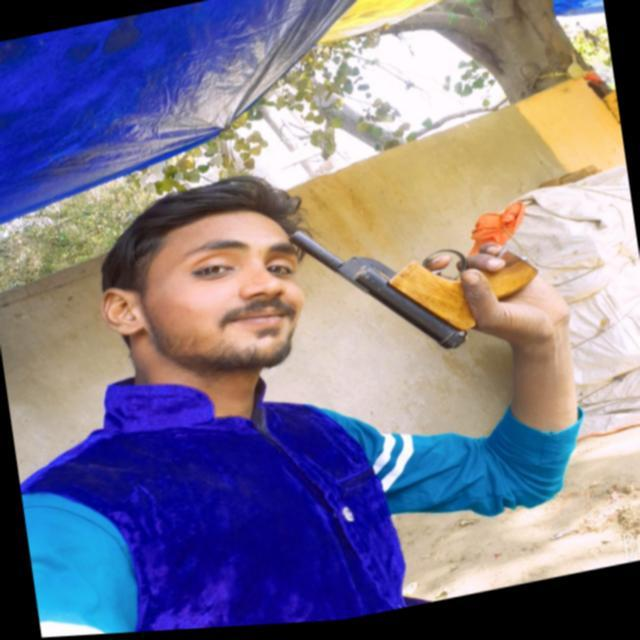weapon: (285, 184, 552, 388)
